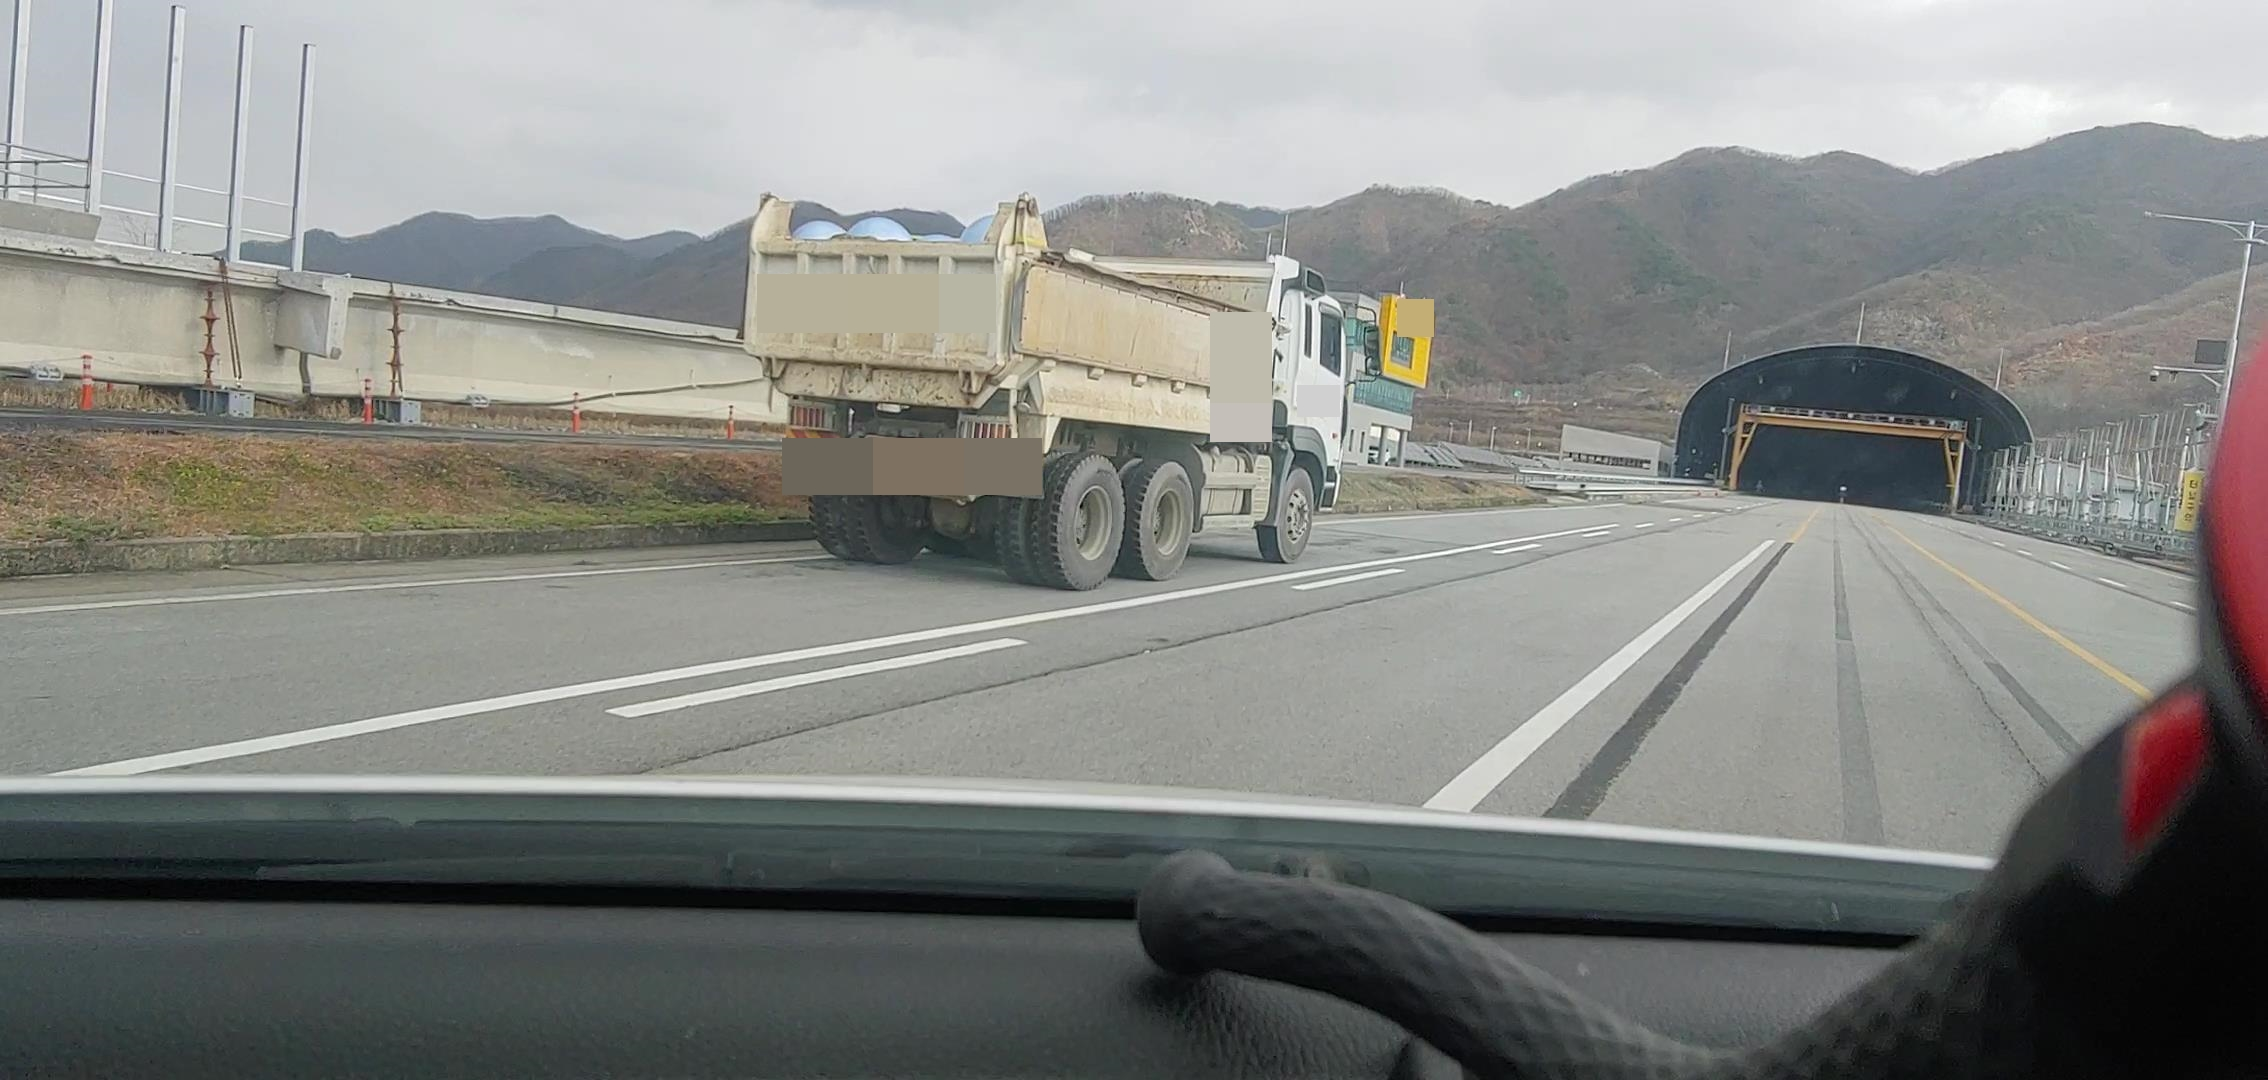불법차량: (736, 191, 1384, 593)
